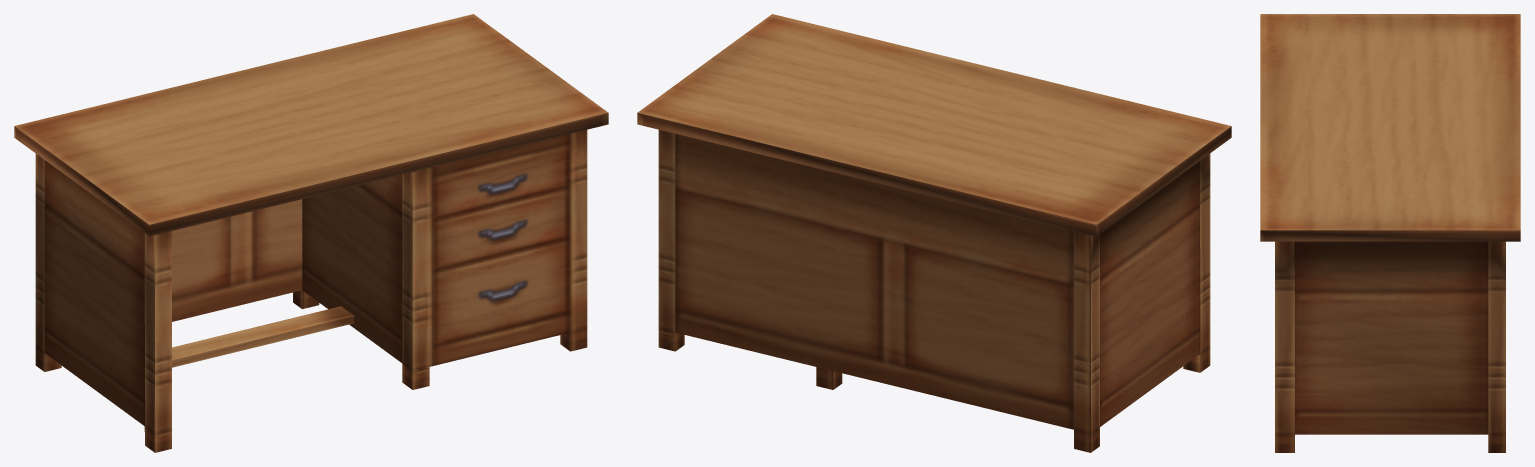
Rendered from a_SWGdesk01A.glb.
3 views of the same model, side by side, from view 1: azimuth 30°, elevation 25°; view 2: azimuth 150°, elevation 25°; view 3: azimuth 270°, elevation 25° (orthographic). The views are drawn at different scales.
Parts seen in each view (by area): view 1: a_SWGdesk01A; view 2: a_SWGdesk01A; view 3: a_SWGdesk01A.
Part boxes in pixels (x1=…): a_SWGdesk01A: x1=14, y1=14, x2=608, y2=452; a_SWGdesk01A: x1=637, y1=14, x2=1231, y2=452; a_SWGdesk01A: x1=1260, y1=14, x2=1520, y2=452.
Size of the model in its own units: 1.98 by 0.9763 by 1.01.
Materials: 1 (1 with a texture image).
